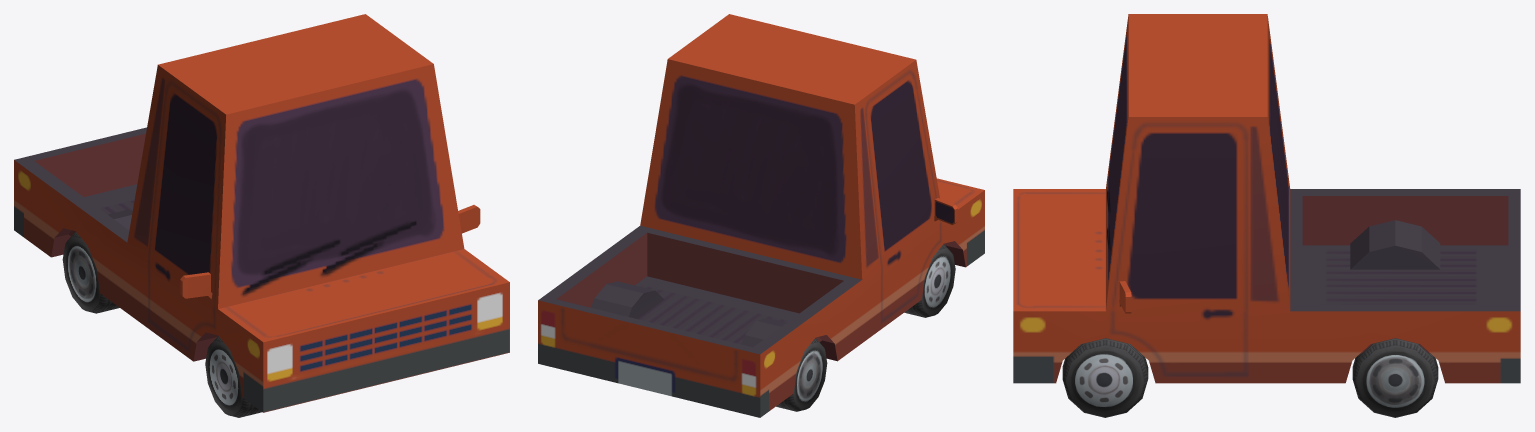
The model's file is low_poly_pickup_truck_2.glb.
The picture shows the model from 3 angles, left to right: view 1: azimuth 30°, elevation 25°; view 2: azimuth 150°, elevation 25°; view 3: azimuth 270°, elevation 25°; orthographic projection. The views are drawn at different scales.
Visible parts, largest first — view 1: pickupTruck02, wheel_2, wheel_4; view 2: pickupTruck02, wheel_4, wheel_2; view 3: pickupTruck02, wheel_3, wheel.
Boxes of the visible parts, box(x1,y1,x2,y2) form: pickupTruck02: box(14, 14, 509, 412); wheel_2: box(62, 232, 119, 313); wheel_4: box(205, 336, 261, 417); pickupTruck02: box(538, 14, 984, 417); wheel_4: box(904, 244, 955, 317); wheel_2: box(776, 338, 827, 411); pickupTruck02: box(1013, 14, 1520, 383); wheel_3: box(1062, 338, 1148, 417); wheel: box(1352, 338, 1438, 417).
Size of the model in its own units: 2.42 by 2.25 by 3.5.
1 material, 1 textured.
